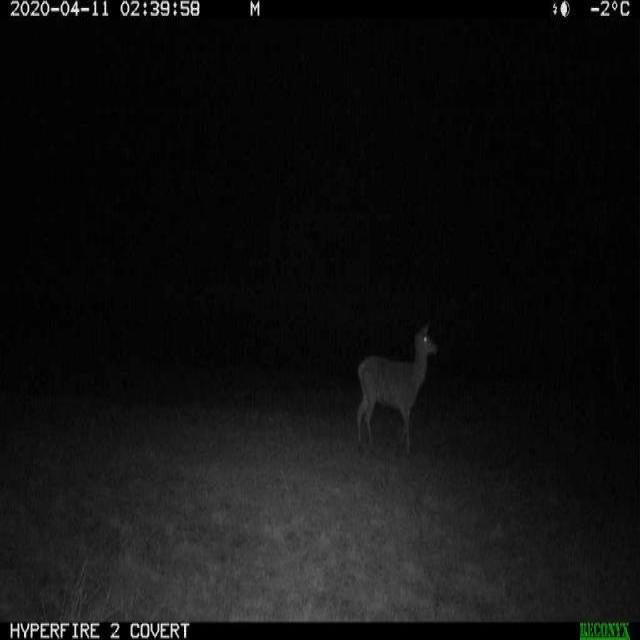deer: (352, 309, 442, 460)
